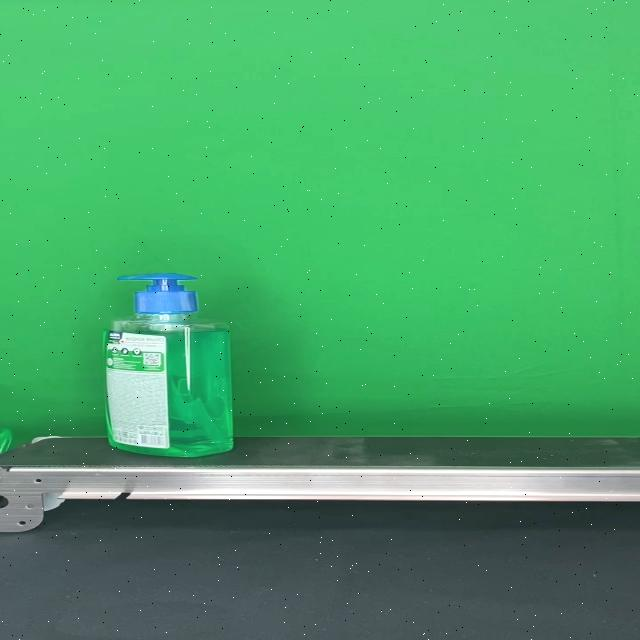Bottle: (102, 273, 235, 459)
Cap: (114, 273, 197, 315)
